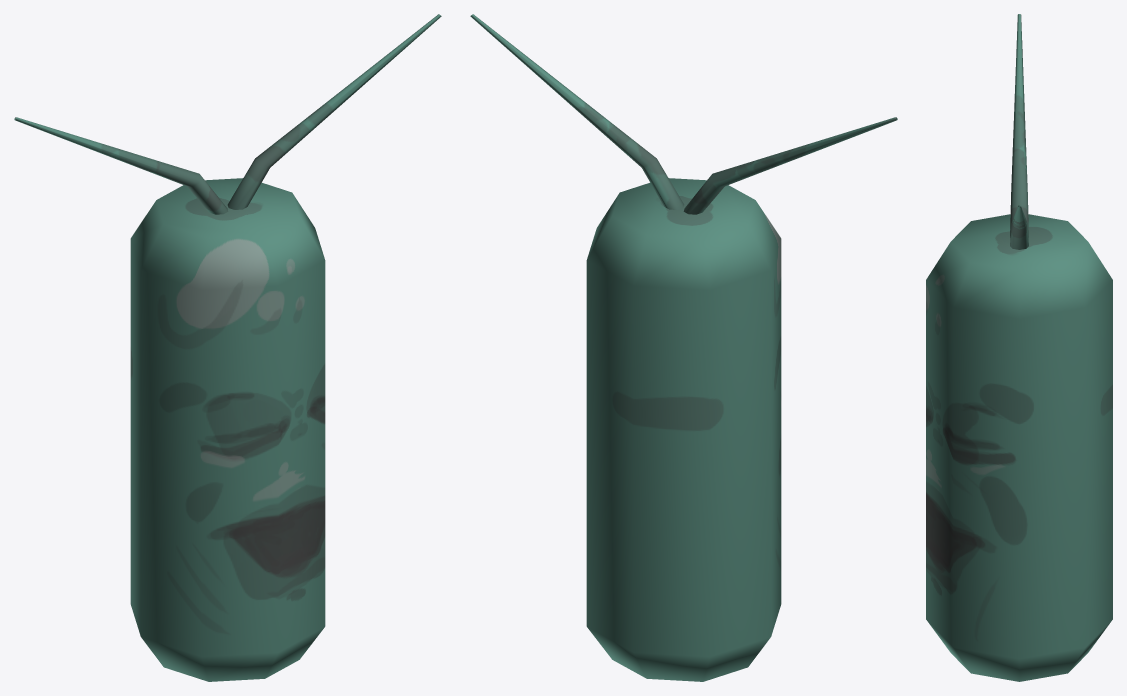
Rendered from Plankton.fbx.
The picture shows the model from 3 angles, left to right: view 1: azimuth 30°, elevation 25°; view 2: azimuth 150°, elevation 25°; view 3: azimuth 270°, elevation 25°; orthographic projection. The views are drawn at different scales.
Parts seen in each view (by area): view 1: Plankton:pCylinder5, Plankton:pCylinder4, Plankton:pCylinder3; view 2: Plankton:pCylinder5, Plankton:pCylinder4, Plankton:pCylinder3; view 3: Plankton:pCylinder5, Plankton:pCylinder3, Plankton:pCylinder4.
Boxes of the visible parts, x1,y1,x2,y2 form: Plankton:pCylinder5: (130, 178, 325, 681); Plankton:pCylinder4: (227, 14, 441, 209); Plankton:pCylinder3: (14, 117, 228, 214); Plankton:pCylinder5: (586, 178, 781, 681); Plankton:pCylinder4: (470, 14, 684, 209); Plankton:pCylinder3: (683, 117, 897, 214); Plankton:pCylinder5: (926, 214, 1112, 681); Plankton:pCylinder3: (1010, 14, 1028, 237); Plankton:pCylinder4: (1010, 205, 1028, 249).
Bounding box in the file's own units: 4.02 × 5.28 × 1.64.
1 material, 1 textured.
